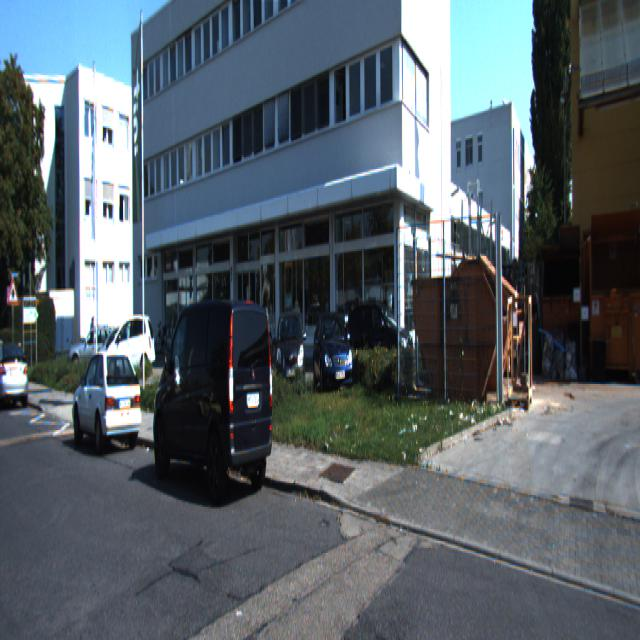Car: (149, 293, 276, 516), (68, 346, 142, 461), (312, 308, 354, 407), (103, 313, 156, 383), (272, 307, 306, 406)
